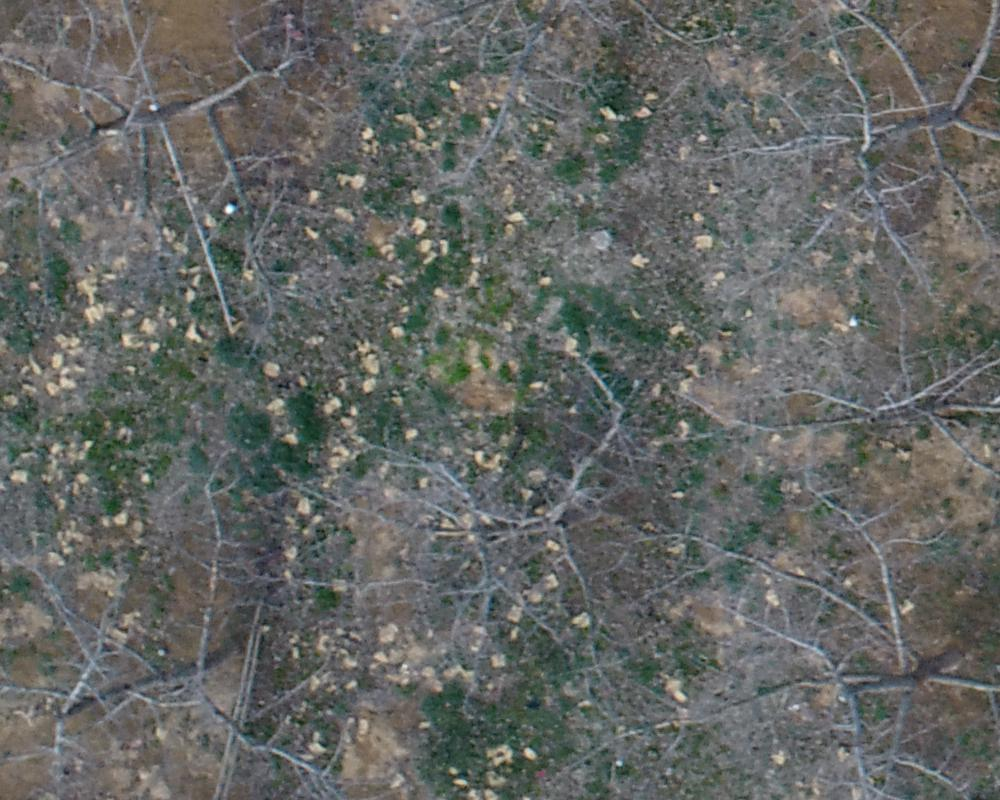apple: (264, 348, 678, 721), (10, 453, 352, 790), (10, 10, 325, 370), (646, 468, 990, 790), (255, 10, 766, 197), (667, 285, 990, 580), (699, 10, 990, 301)
